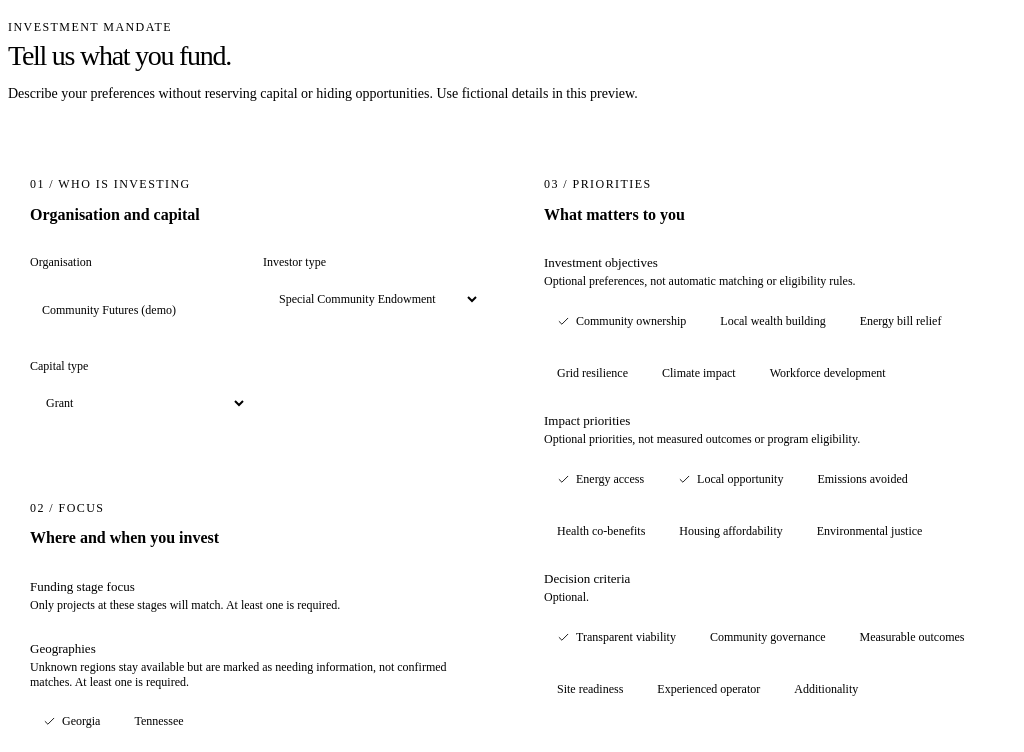
Test: MandateView › requires at least one geography
Click the button "Georgia": {"x": 72, "y": 722} [30,700,113,744]
(page scrolled)
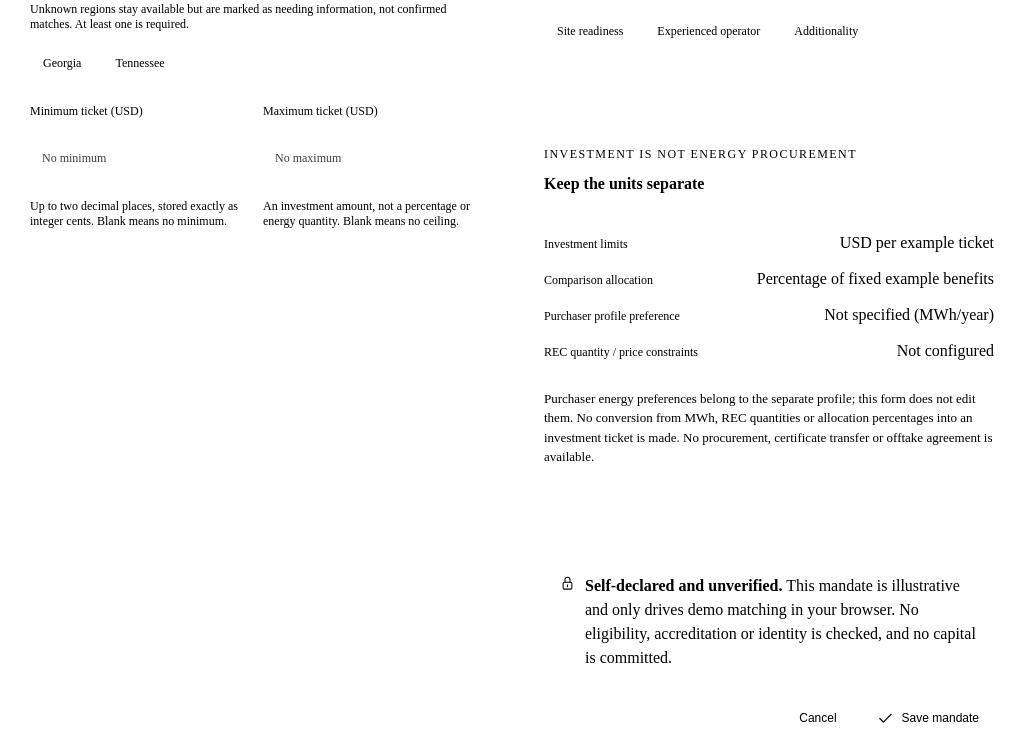
Click the button "Save mandate": {"x": 928, "y": 718} [862,700,994,738]
(page scrolled)
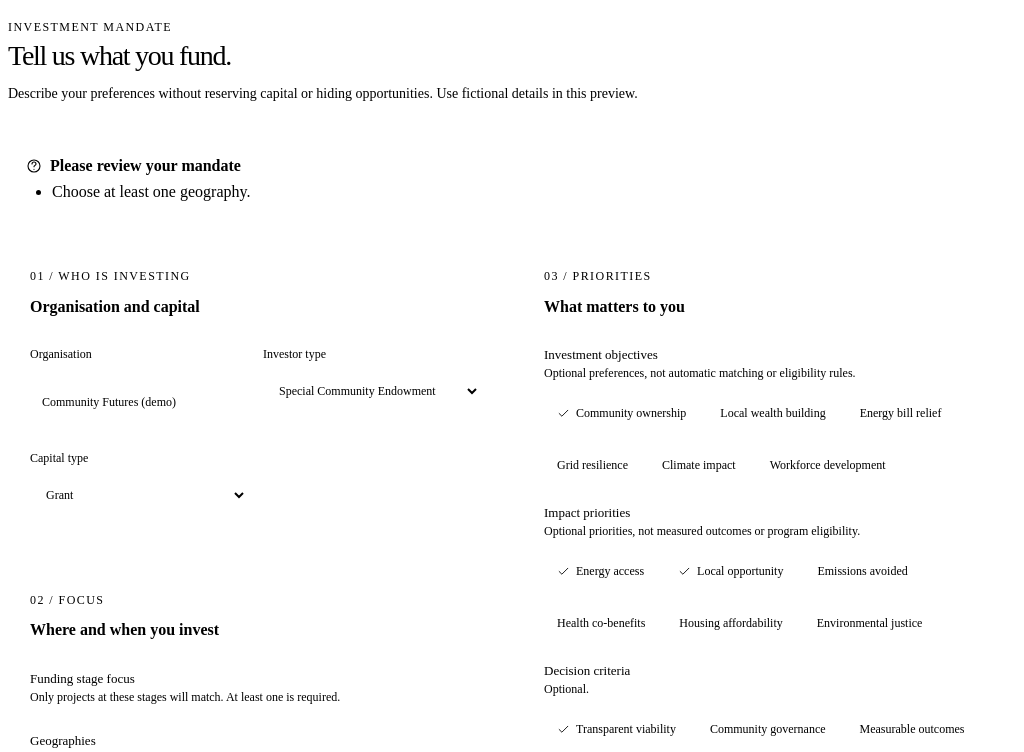
Expected: the message shows "at least one geography", [52,184,250,200]
